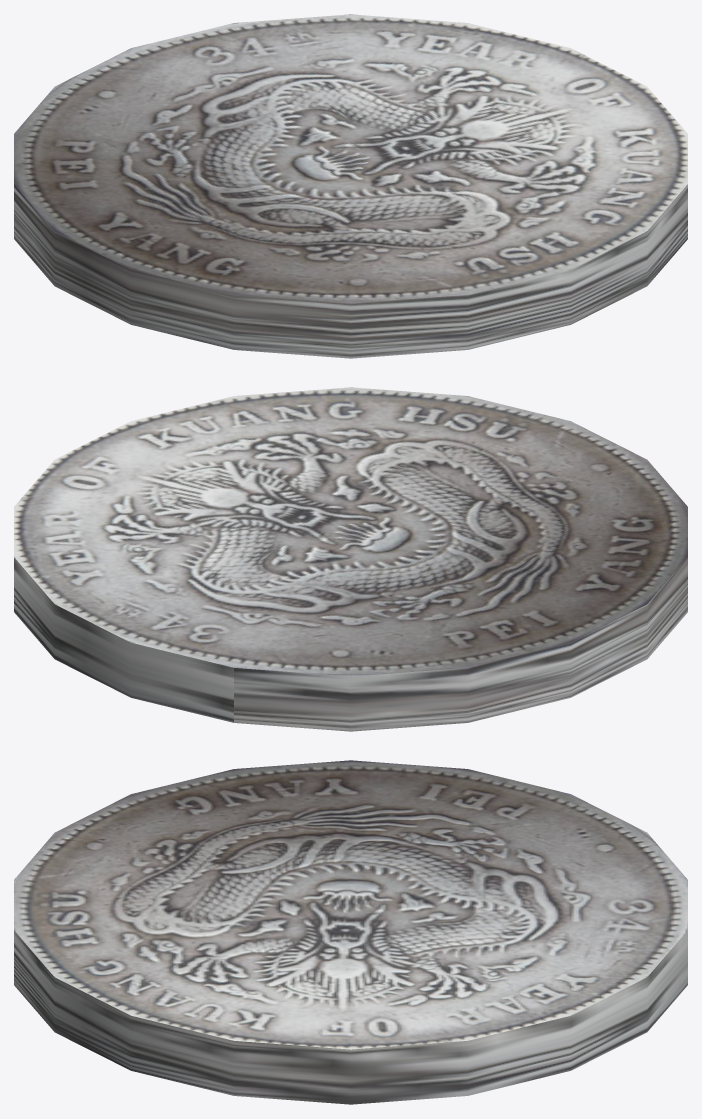
The model's file is yingbi01.FBX.
3 views of the same model, one above another, from view 1: azimuth 30°, elevation 25°; view 2: azimuth 150°, elevation 25°; view 3: azimuth 270°, elevation 25° (orthographic).
Visible parts, largest first — view 1: yingbi01; view 2: yingbi01; view 3: yingbi01.
Part boxes in pixels (x1=…): yingbi01: x1=14, y1=14, x2=687, y2=358; yingbi01: x1=14, y1=387, x2=687, y2=731; yingbi01: x1=14, y1=760, x2=687, y2=1104.
Size of the model in its own units: 5.95 by 0.5289 by 5.86.
1 material, 1 textured.
